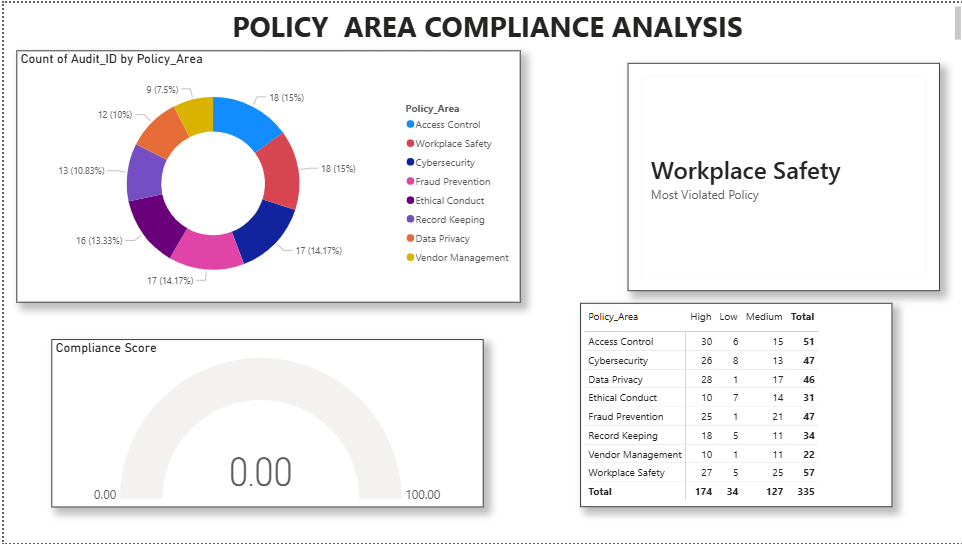

The page's visual inventory and layout, read from the dashboard file:
{"tool":"powerbi","page":{"name":"Policy Area Compliance Analysis","canvas":[1280,720],"ordinal":2},"visuals":[{"type":"textbox","box":[16,0,1264,64],"z":0},{"type":"donutChart","fields":{"Category":["Audit_Records.Policy_Area"],"Y":["CountNonNull(Audit_Records.Audit_ID)"]},"box":[16,64,672,336],"z":1000},{"type":"pivotTable","fields":{"Rows":["Audit_Records.Policy_Area"],"Columns":["Audit_Records.Risk_Severity"],"Values":["Sum(Audit_Records.Findings)"]},"box":[768,400,416,272],"z":1001},{"type":"cardVisual","fields":{"Data":["Audit_Records.Top Policy Name"]},"box":[832,80,416,304],"z":1002},{"type":"gauge","fields":{"Y":["Audit_Records.Compliance Score"]},"box":[64,448,576,224],"z":1003}]}

Visuals, with their boxes in screenshot pixels (x1, y1, x2, y2), scaled from the page's 1280x720 canvas onto the 962x544 screenshot:
textbox: (x1=12, y1=0, x2=961, y2=48)
donutChart - Audit_Records.Policy_Area x CountNonNull(Audit_Records.Audit_ID): (x1=12, y1=48, x2=517, y2=302)
pivotTable - Audit_Records.Policy_Area x Audit_Records.Risk_Severity: (x1=577, y1=302, x2=890, y2=508)
cardVisual - Audit_Records.Top Policy Name: (x1=625, y1=60, x2=938, y2=290)
gauge - Audit_Records.Compliance Score: (x1=48, y1=338, x2=481, y2=508)
